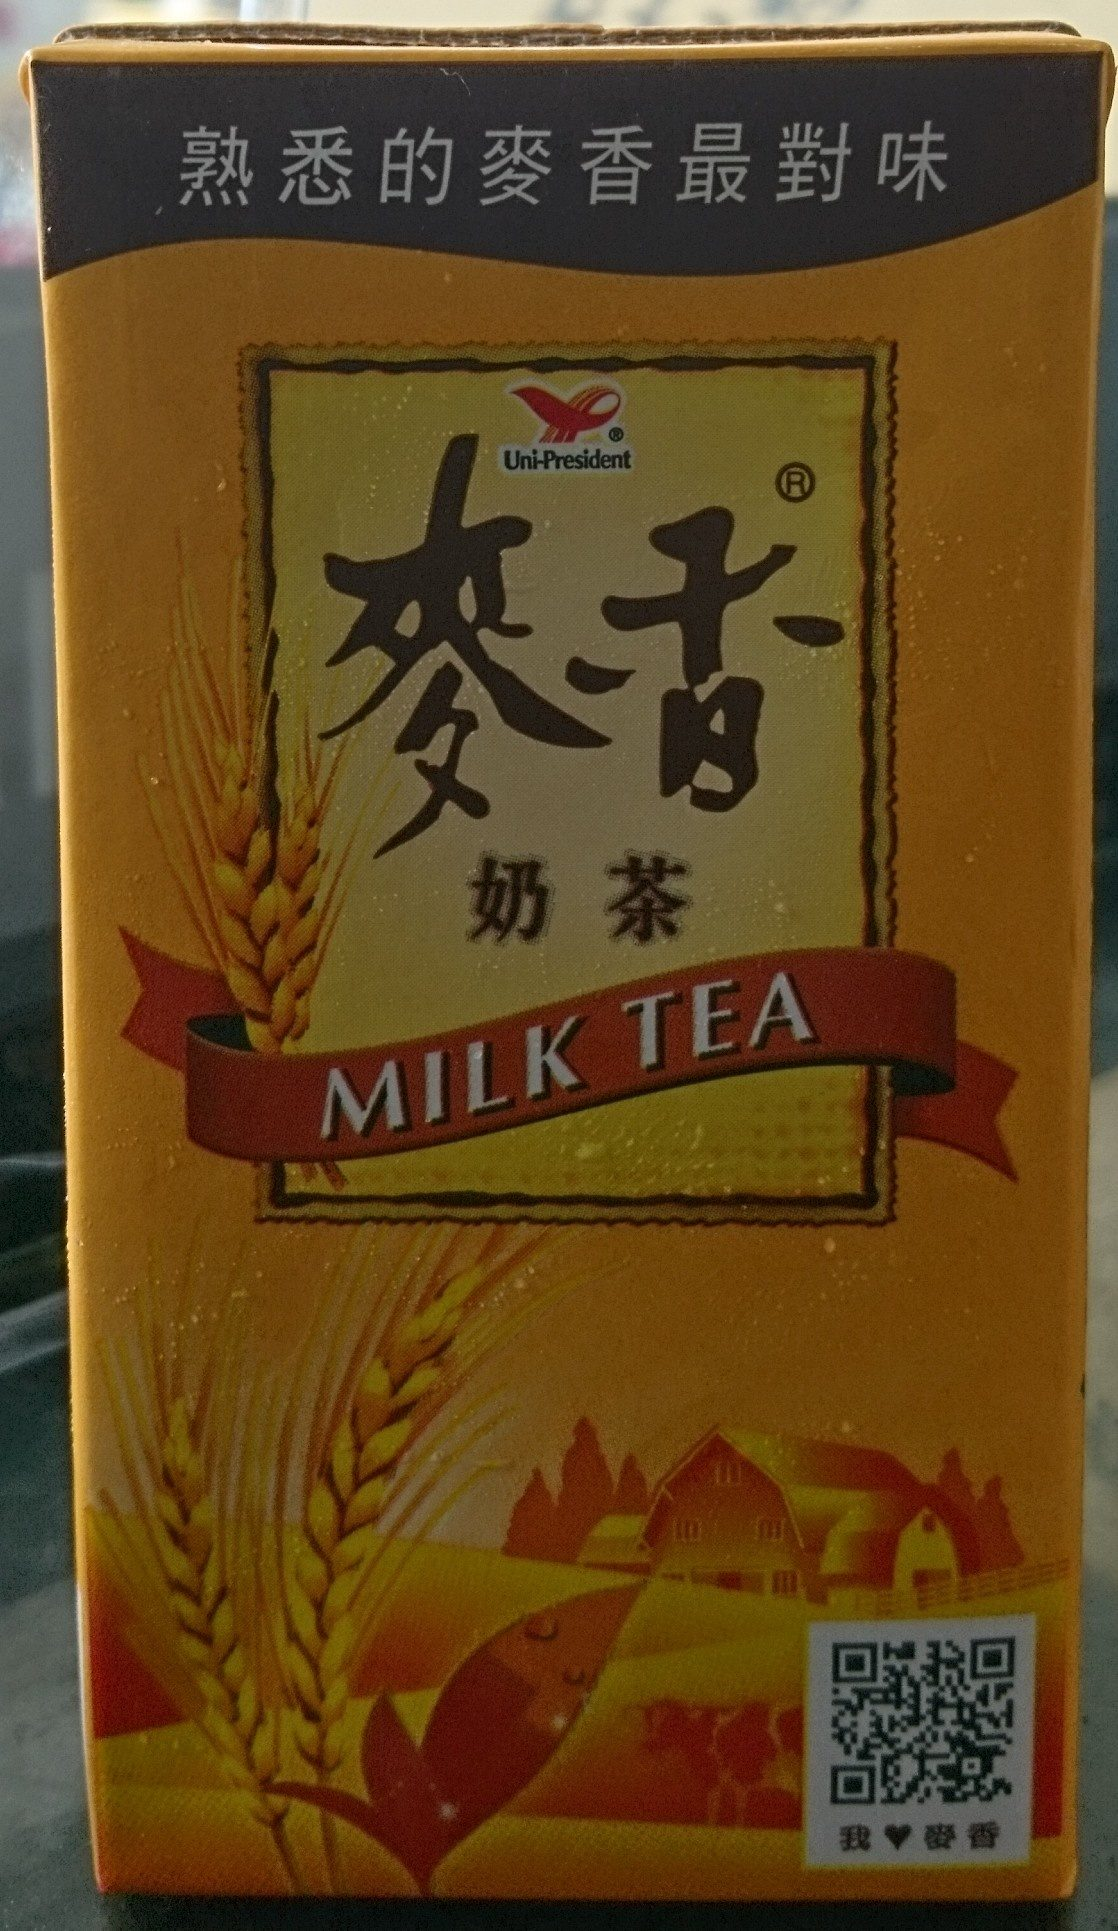milk tea: (25, 13, 1098, 1922)
